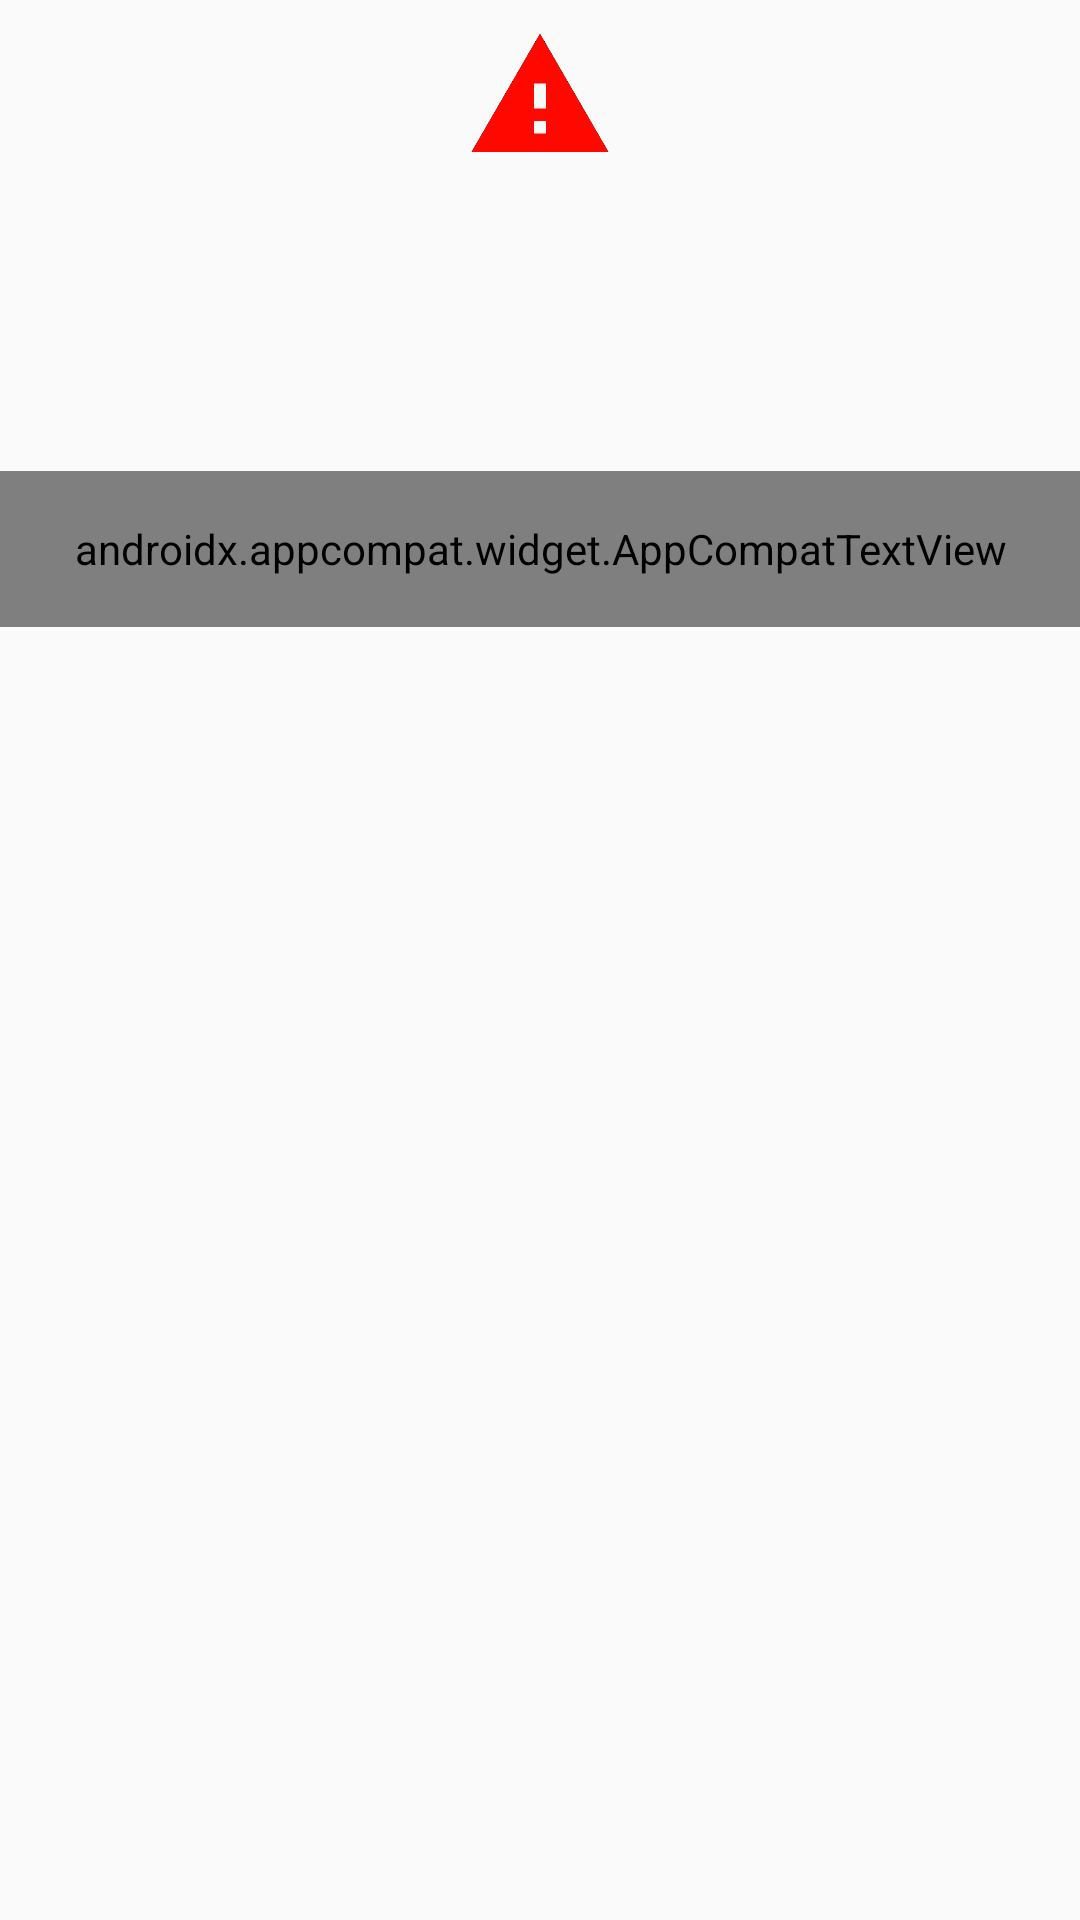

Screen size 1080 x 1920. Icon name, then its center in pixels as point (x, y):
warning: point (540, 93)
